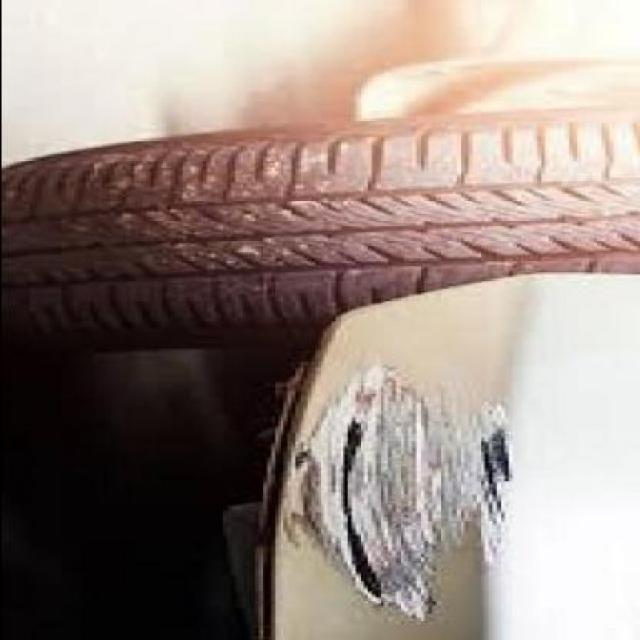damage: (282, 363, 523, 618)
